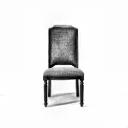chair_success: (39, 21, 88, 110)
